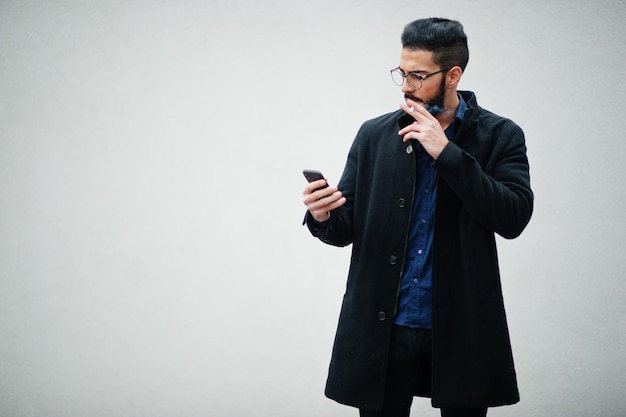cigarette: (407, 103, 415, 113)
